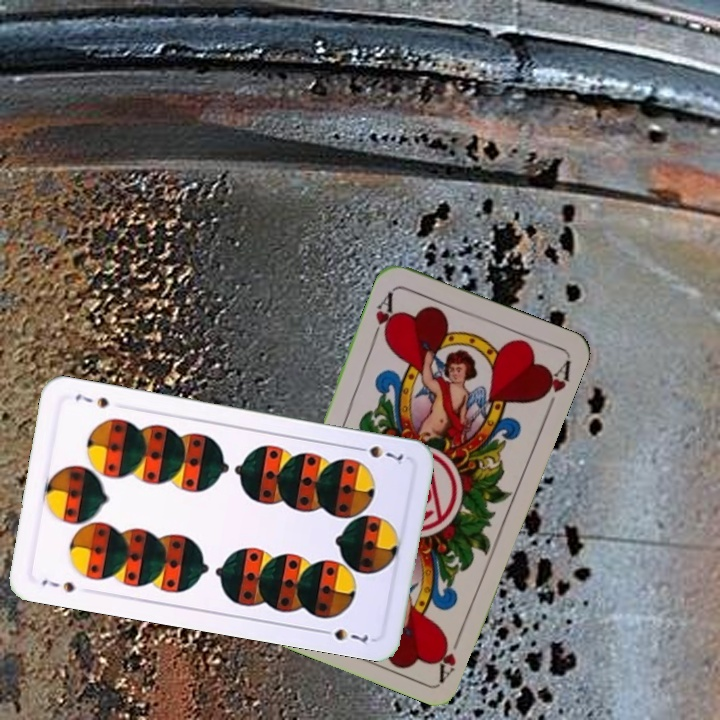HA: (431, 625, 465, 683), (368, 288, 398, 344)
S7: (350, 441, 406, 467), (38, 575, 78, 596)
